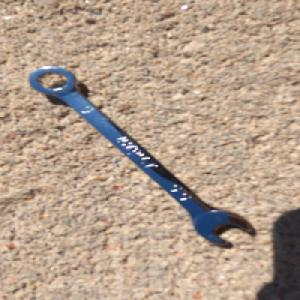Wrench: (25, 63, 257, 247)
